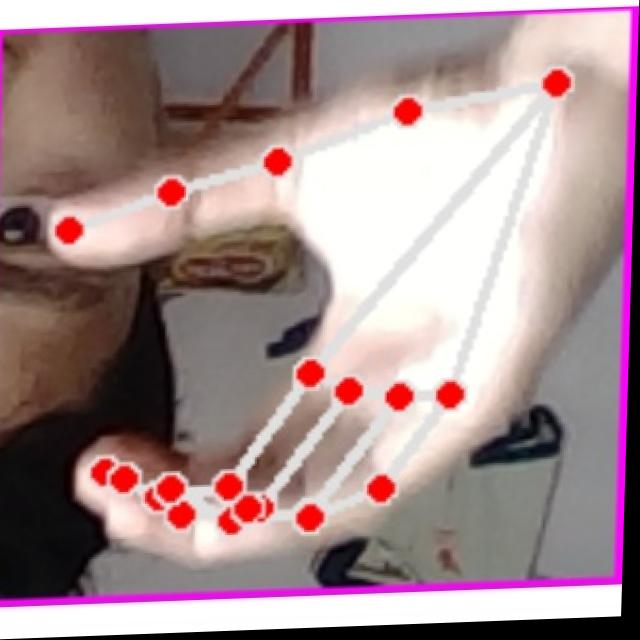C: (22, 35, 611, 579)
